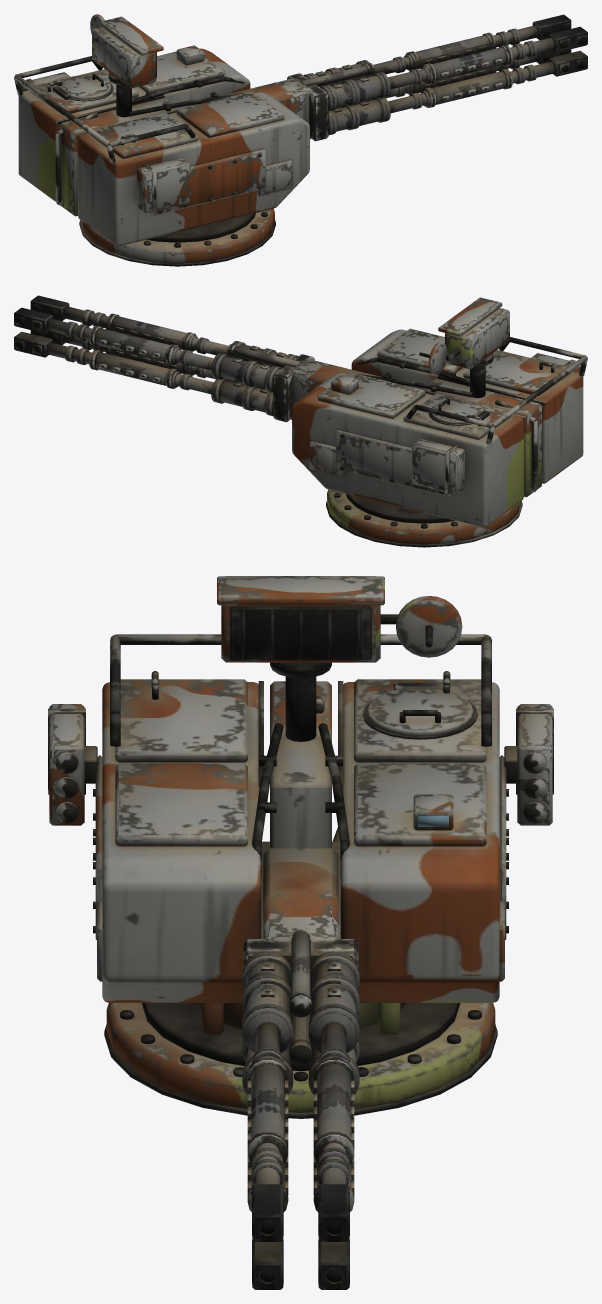
The model's file is turret_kit_quad_rust.glb.
3 views of the same model, one above another, from view 1: azimuth 30°, elevation 25°; view 2: azimuth 150°, elevation 25°; view 3: azimuth 270°, elevation 25° (orthographic). The views are drawn at different scales.
Parts seen in each view (by area): view 1: turret_twin_quad, guns, pods; view 2: turret_twin_quad, guns, pods; view 3: turret_twin_quad, guns, pods.
Boxes of the visible parts, box(x1,y1,x2,y2) form: turret_twin_quad: box(14, 14, 309, 266); guns: box(220, 14, 587, 141); pods: box(20, 72, 190, 213); turret_twin_quad: box(292, 297, 587, 547); guns: box(14, 295, 382, 422); pods: box(411, 353, 581, 494); turret_twin_quad: box(93, 576, 508, 1118); guns: box(242, 848, 359, 1289); pods: box(48, 704, 553, 825).
Bounding box in the file's own units: 2.7 × 1.01 × 1.15.
4 materials, 3 textured.
